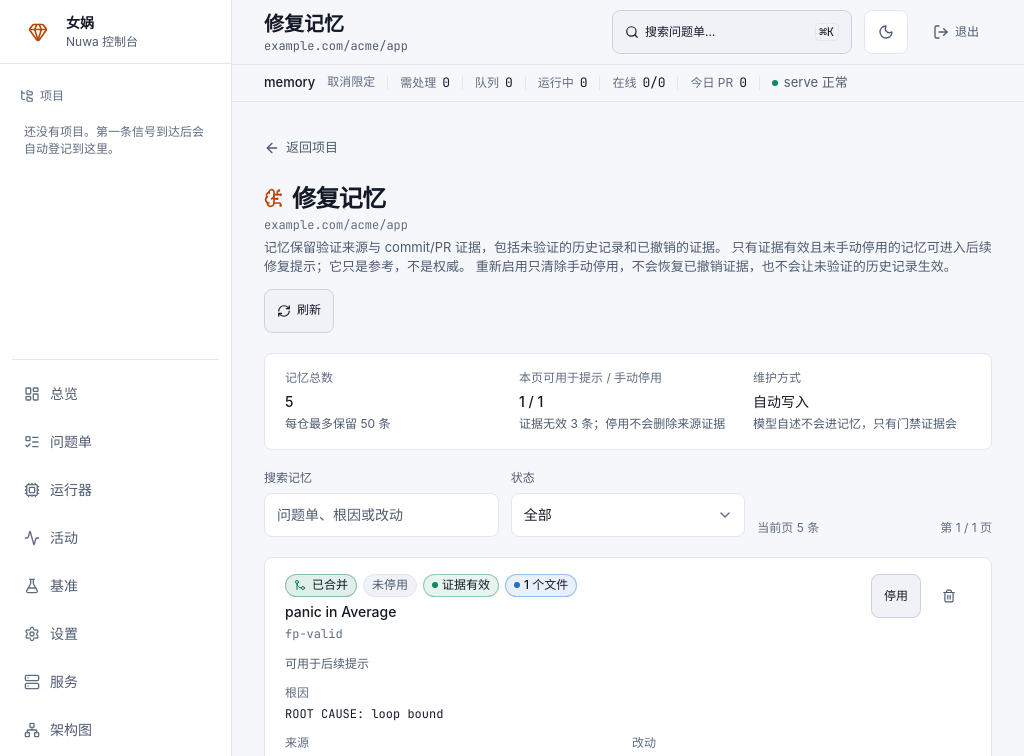
Test: 项目修复记忆 › counts and filters prompt eligibility separately from manual disabling
Expected: the link "fp-valid" is shown, [285,626,343,643]
Expected: the text "1 / 1" is shown, [519,393,543,410]
Select "生效中" in the dropdown labelled "状态" at (628, 515), box [511,493,745,537]
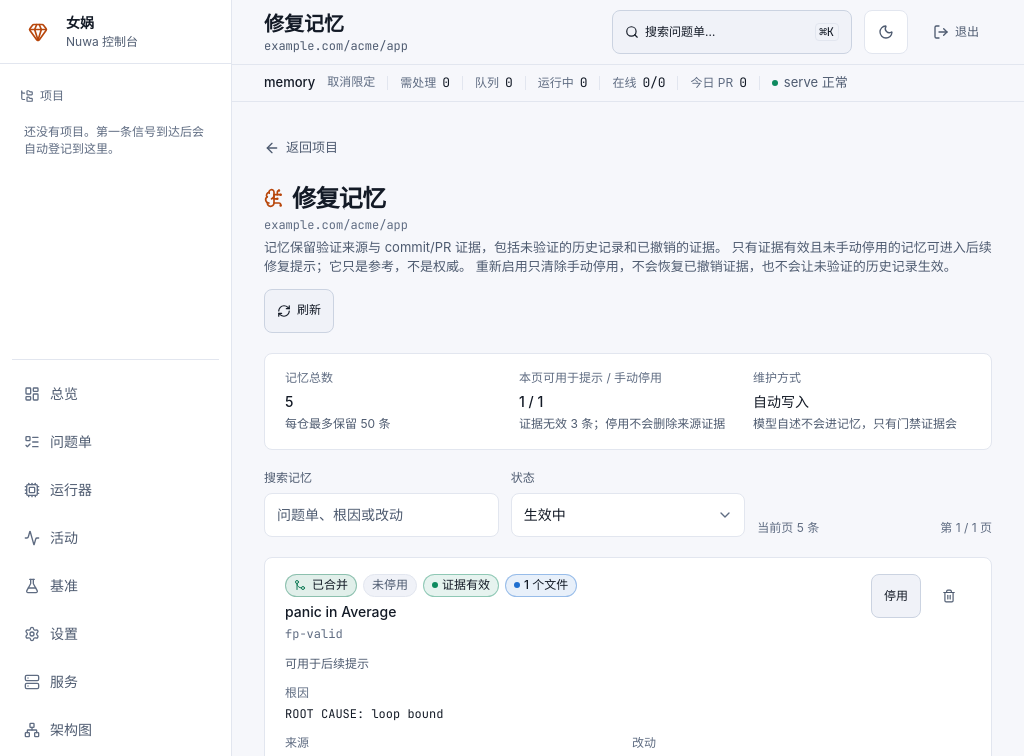
Expected: the link "fp-valid" is shown, [285,626,343,643]
Select "证据无效" in the dropdown labelled "状态" at (628, 515), box [511,493,745,537]
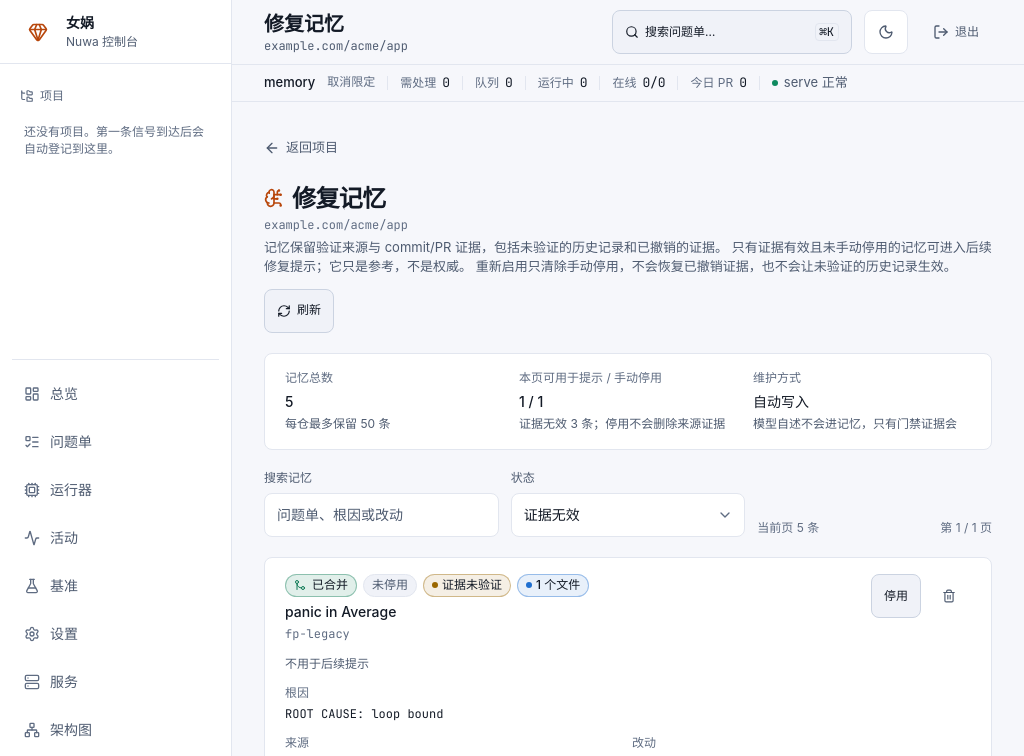
Expected: the list "fp-disabled" is not shown
Now the link "fp-valid" is gone
Select "已停用" in the dropdown labelled "状态" at (628, 515), box [511,493,745,537]
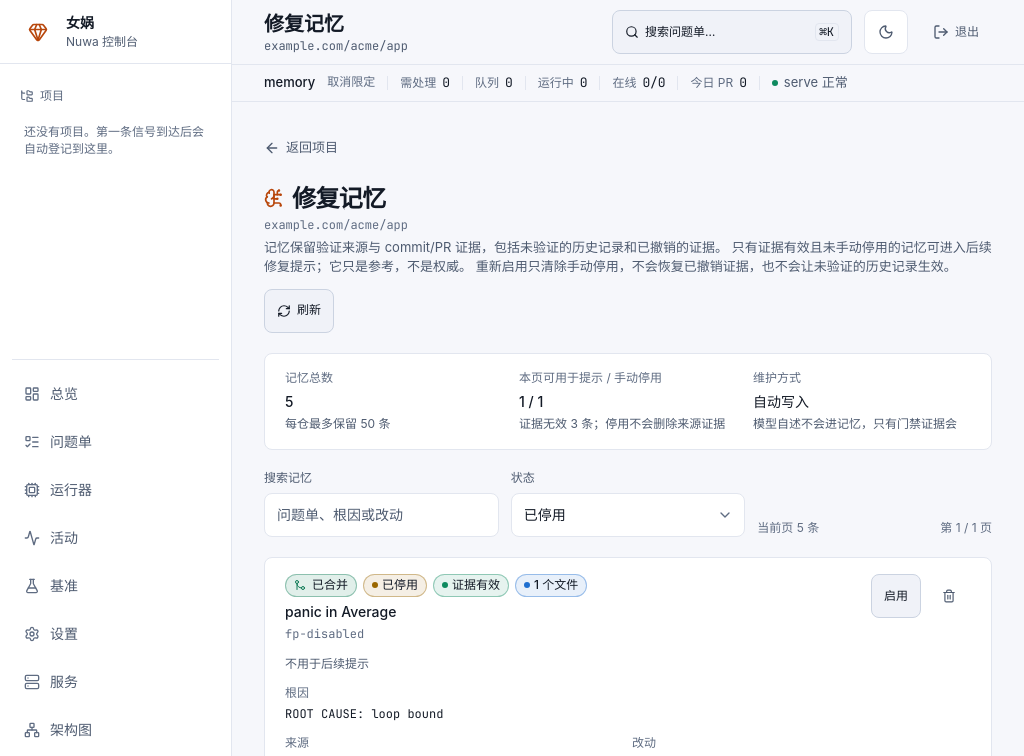
Now the link "fp-disabled" is shown, box [285,626,364,643]
